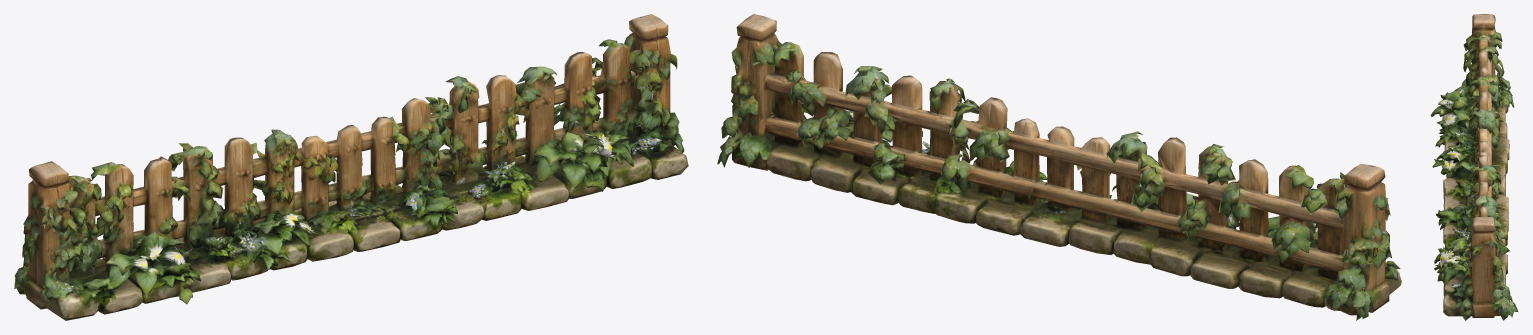
Rendered from tripo_convert_54f3a337-33e1-4c6f-9adf-d3d857cb62ed.fbx.
3 views of the same model, side by side, from view 1: azimuth 30°, elevation 25°; view 2: azimuth 150°, elevation 25°; view 3: azimuth 270°, elevation 25° (orthographic). The views are drawn at different scales.
Visible parts, largest first — view 1: tripo_node_54f3a337; view 2: tripo_node_54f3a337; view 3: tripo_node_54f3a337.
Part boxes in pixels (x1,y1,x2,y2): tripo_node_54f3a337: (14,14,688,320); tripo_node_54f3a337: (717,14,1401,320); tripo_node_54f3a337: (1430,14,1518,320).
Size of the model in its own units: 0.9784 by 0.1994 by 0.1662.
1 material, 1 textured.
